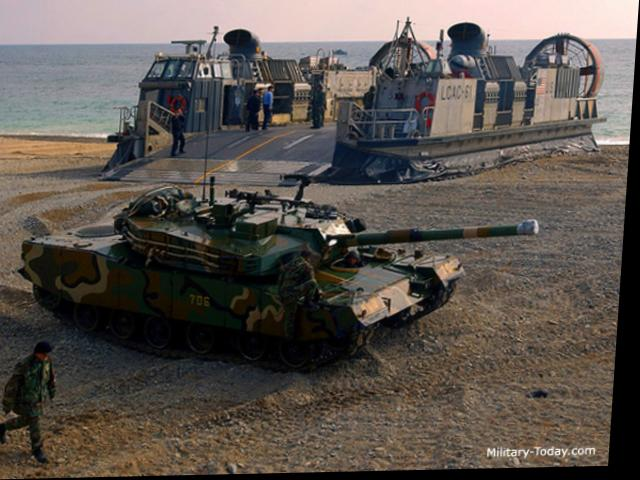other: (0, 341, 70, 459), (167, 108, 189, 158), (311, 85, 330, 127), (246, 90, 264, 131), (262, 87, 276, 130), (362, 85, 377, 110)
tank: (3, 168, 496, 363)
